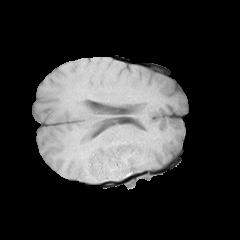glioma: (97, 146, 142, 180)
